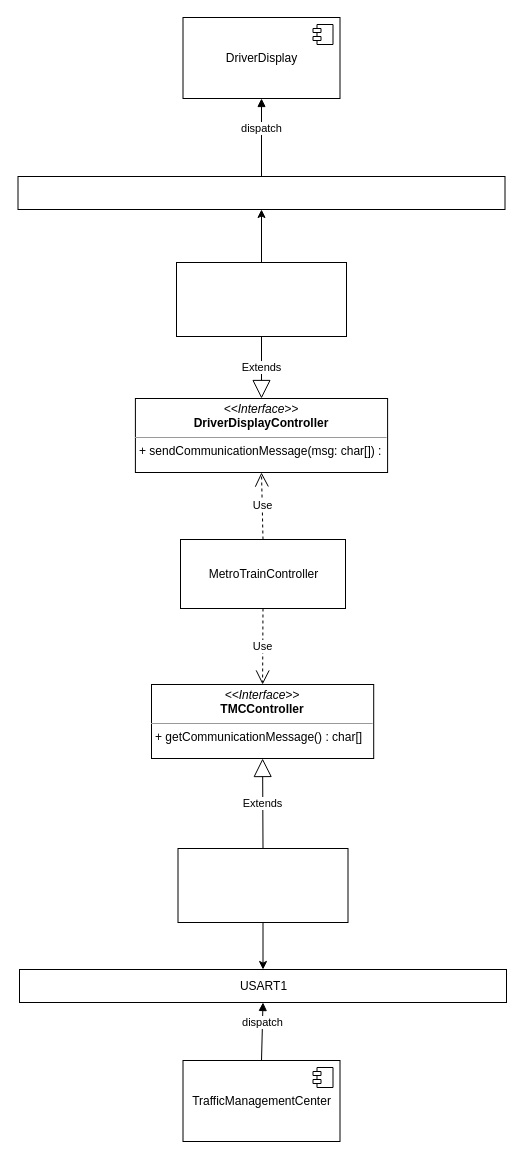
This 524x1159 diagram has some shape labels left out. Each missing label, with the centre of its shape:
DriverDisplayController: pixel 261 299
TMCController: pixel 262 885
USART2: pixel 261 193
